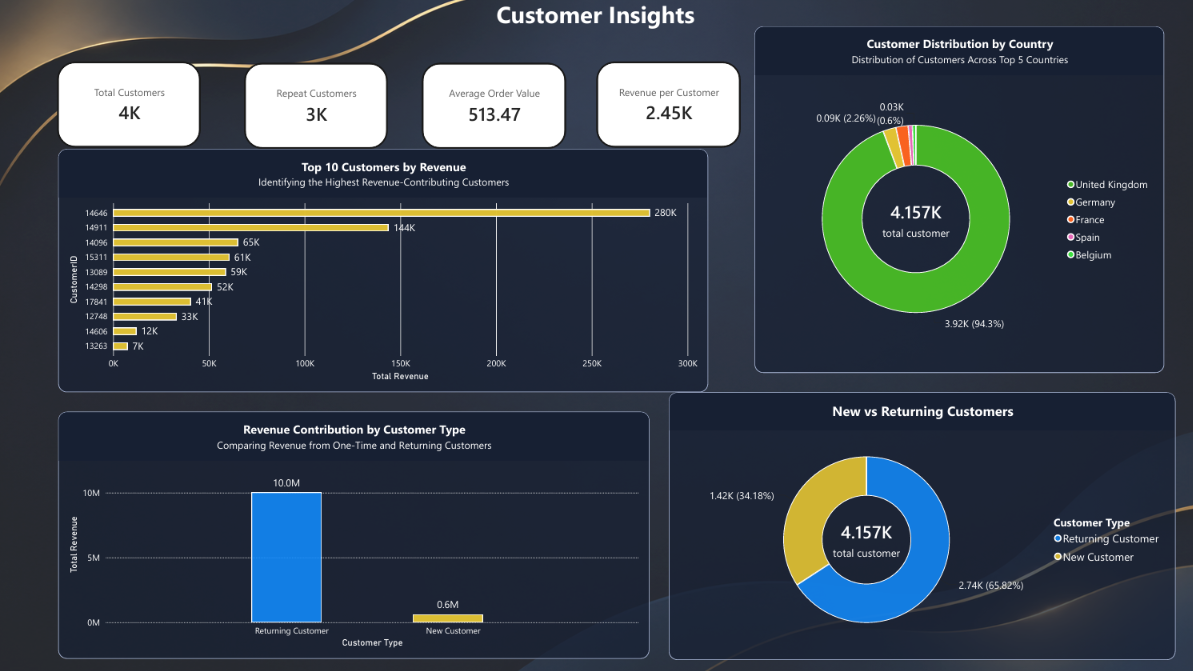

Layout of this report page (visuals, bound fields, positions):
{"tool":"powerbi","page":{"name":"Page 2","canvas":[1920,1080],"ordinal":1},"visuals":[{"type":"textbox","box":[0,0,1920.4,67.9],"z":0},{"type":"cardVisual","fields":{"Data":["cleaned_online_retail.Total Customers"]},"box":[98.9,101,230.5,137.9],"z":1000},{"type":"cardVisual","fields":{"Data":["cleaned_online_retail.Revenue per Customer"]},"box":[961.2,100.9,230.5,137.9],"z":2000},{"type":"cardVisual","fields":{"Data":["cleaned_online_retail.Average Order Value"]},"box":[682,103,230.5,137.9],"z":3000},{"type":"cardVisual","fields":{"Data":["cleaned_online_retail.Repeat Customers","cleaned_online_retail.Repeat Customers"]},"box":[397.7,103,230.5,137.9],"z":4000},{"type":"donutChart","title":"Customer Distribution by Country","fields":{"Category":["cleaned_online_retail.Country"],"Y":["Count(cleaned_online_retail.CustomerID)"]},"box":[1214.4,45.3,654.5,553.7],"z":5000},{"type":"donutChart","title":"New vs Returning Customers","fields":{"Category":["cleaned_online_retail.Customer Type"],"Y":["Count(cleaned_online_retail.CustomerID)"]},"box":[1076.5,629.8,811,428.1],"z":6000},{"type":"clusteredBarChart","title":"Top 10 Customers by Revenue","fields":{"Category":["cleaned_online_retail.CustomerID"],"Y":["Sum(cleaned_online_retail.TotalPrice)"]},"box":[100.9,240.8,1039.5,389],"z":7000},{"type":"clusteredColumnChart","title":"Revenue Contribution by Customer Type","fields":{"Category":["cleaned_online_retail.Customer Type"],"Y":["Sum(cleaned_online_retail.TotalPrice)"]},"box":[100.9,660.7,944.8,395.2],"z":8000}]}

Visuals, with their boxes in screenshot pixels (x1, y1, x2, y2), scaled from the page's 1920x1080 canvas onto the 1193x671 screenshot:
textbox: box(0, 0, 1192, 42)
cardVisual - cleaned_online_retail.Total Customers: box(61, 63, 205, 148)
cardVisual - cleaned_online_retail.Revenue per Customer: box(597, 63, 740, 148)
cardVisual - cleaned_online_retail.Average Order Value: box(424, 64, 567, 150)
cardVisual - cleaned_online_retail.Repeat Customers x cleaned_online_retail.Repeat Customers: box(247, 64, 390, 150)
"Customer Distribution by Country" donutChart: box(755, 28, 1161, 372)
"New vs Returning Customers" donutChart: box(669, 391, 1173, 657)
"Top 10 Customers by Revenue" clusteredBarChart: box(63, 150, 709, 391)
"Revenue Contribution by Customer Type" clusteredColumnChart: box(63, 410, 650, 656)
